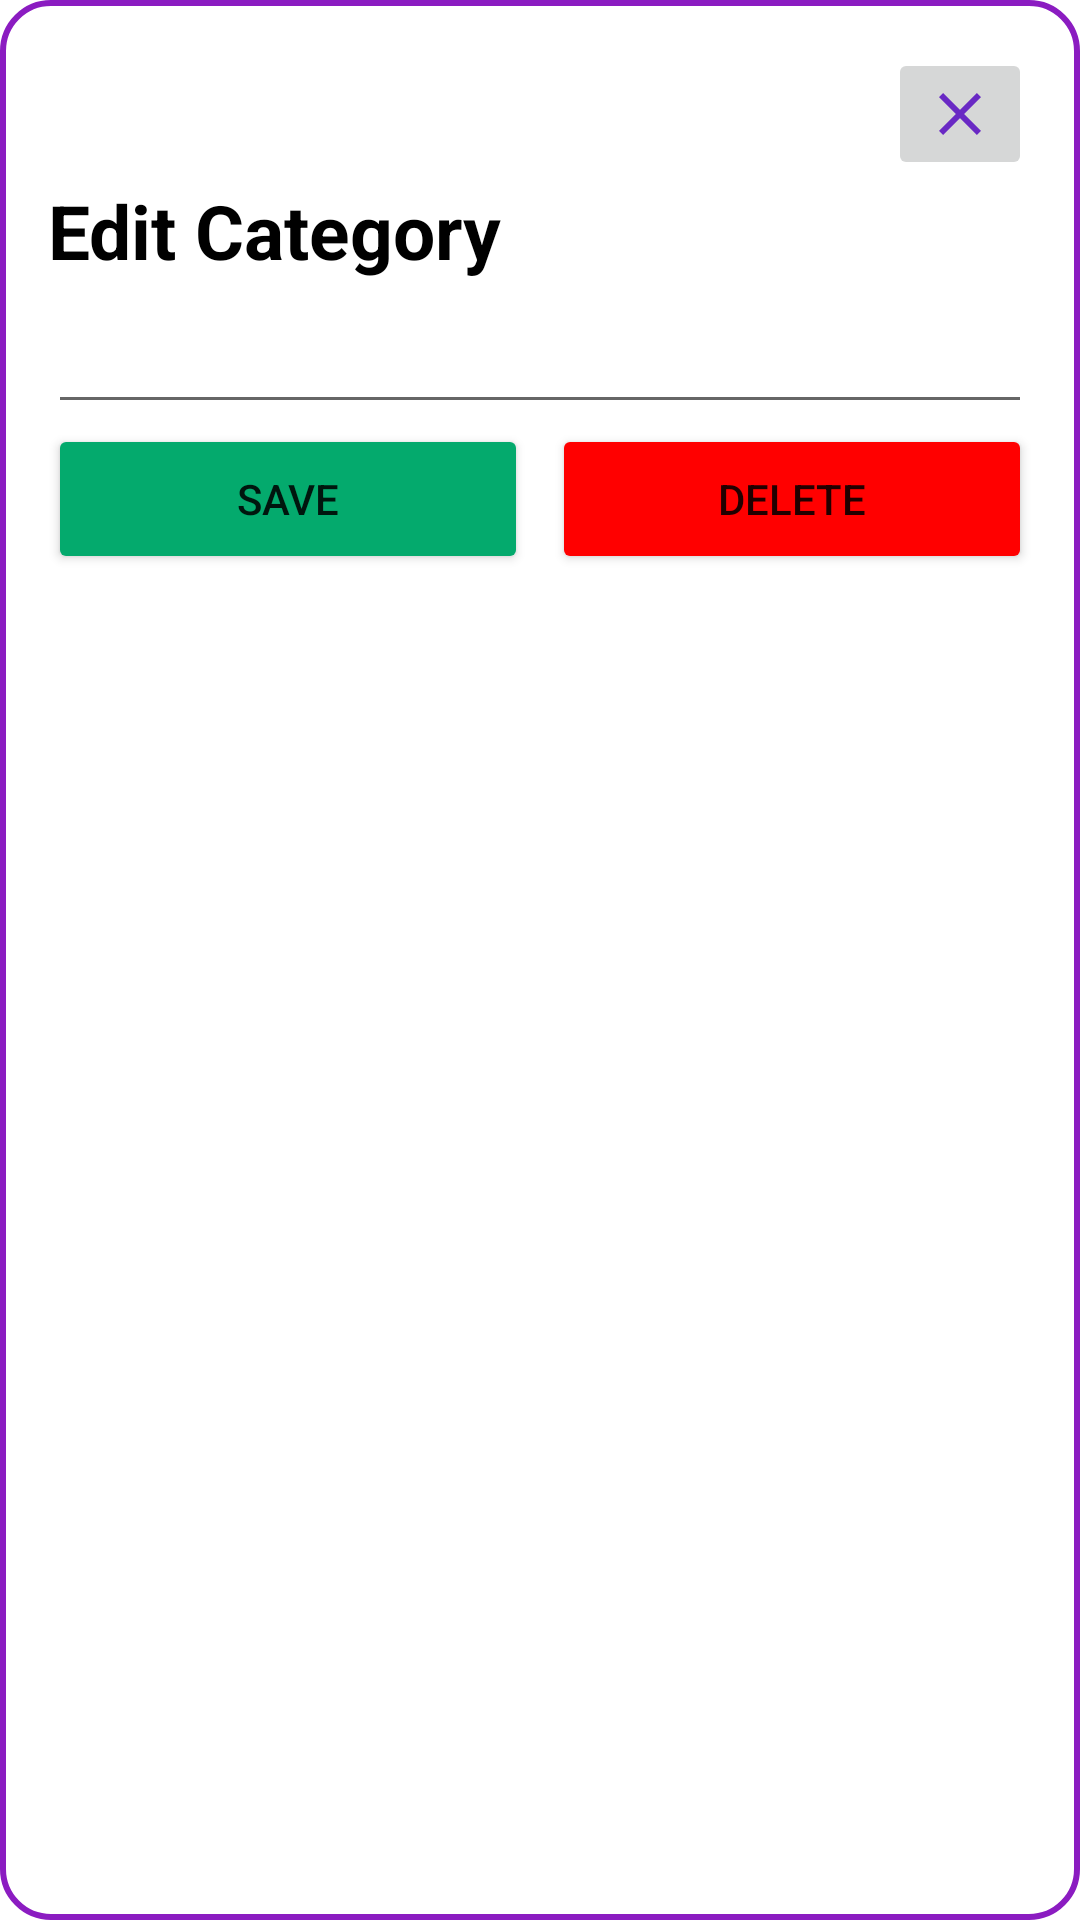

Screen size 1080 x 1920. Icon name, then its box in pixels as (left=x1, top=y1, right=x2, bottom=y2):
close: (left=900, top=66, right=1020, bottom=162)
